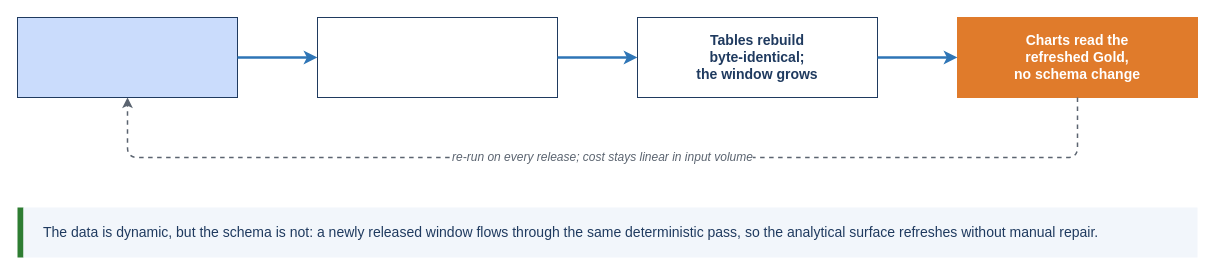
This 1215x275 diagram has some shape labels left out. The centre of each missing label's shape, as x and y in pixels:
"A new day of data arrives" belongs at point (127, 57).
"The idempotent pass re-runs end to end Bronze, Silver, Gold" belongs at point (437, 57).
